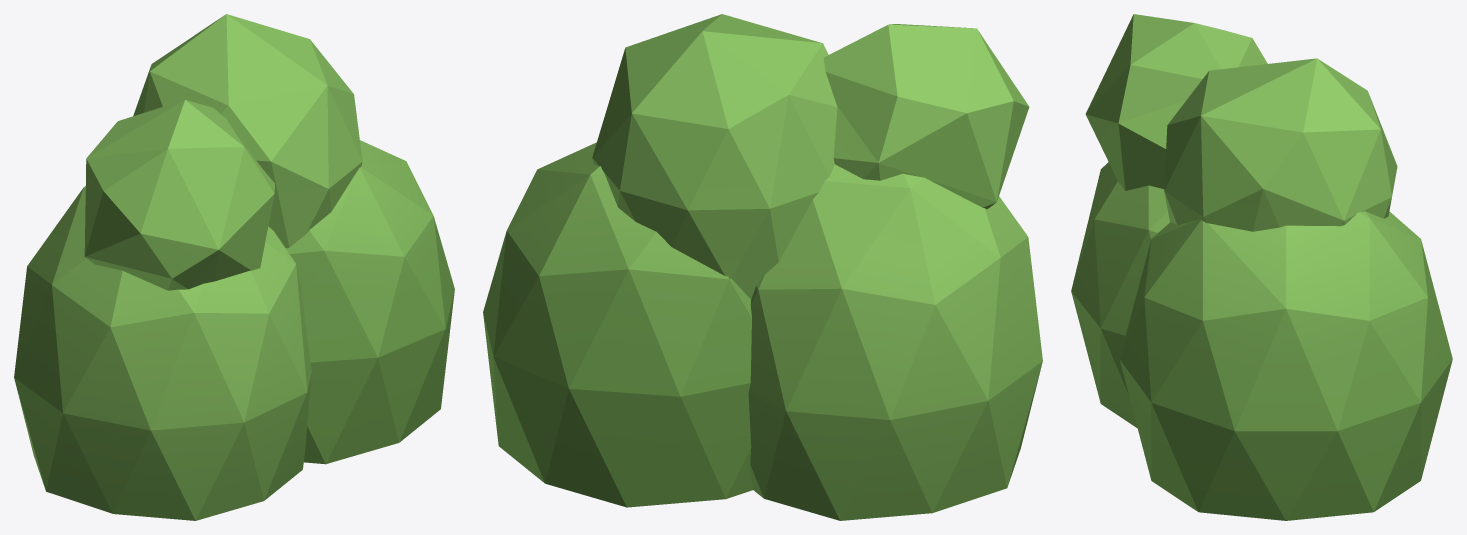
File: Bush_C.fbx
3 renders of one model, left to right at view 1: azimuth 30°, elevation 25°; view 2: azimuth 150°, elevation 25°; view 3: azimuth 270°, elevation 25°, orthographic. The views are drawn at different scales.
Visible parts, largest first — view 1: Bush_C; view 2: Bush_C; view 3: Bush_C.
Part boxes in pixels (x1=…): Bush_C: x1=14, y1=14, x2=454, y2=520; Bush_C: x1=483, y1=14, x2=1042, y2=520; Bush_C: x1=1071, y1=14, x2=1452, y2=520.
Size of the model in its own units: 118 by 104 by 94.55.
